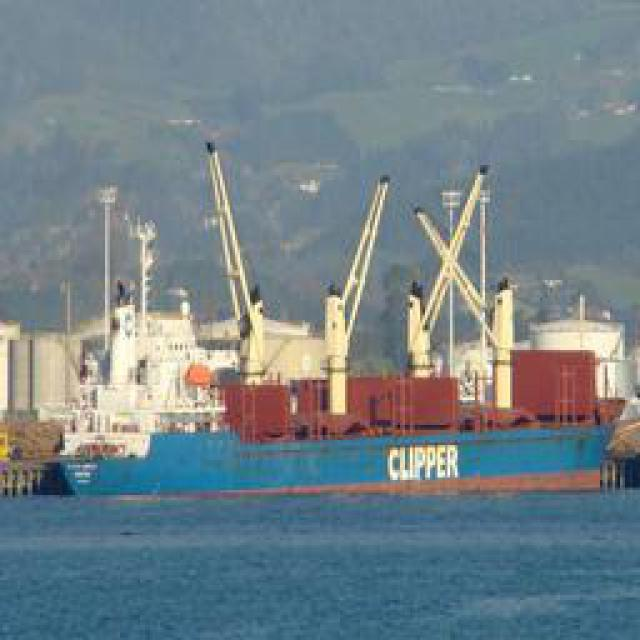Ship: (31, 149, 637, 509)
